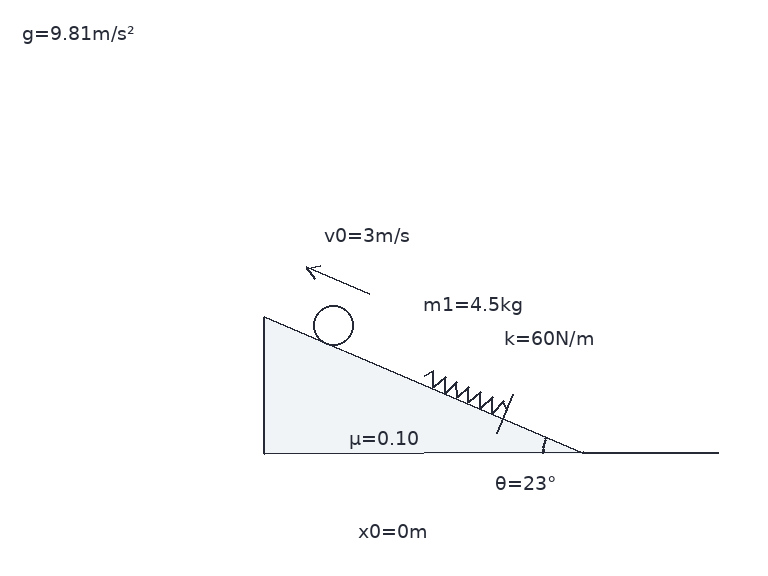ball: (311, 303, 355, 347)
ramp: (262, 315, 585, 455)
spring: (422, 370, 509, 414)
